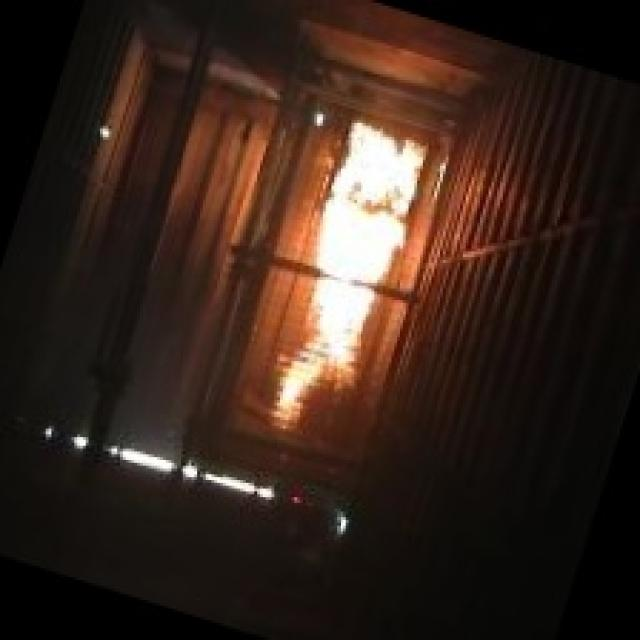fire: (244, 111, 456, 460)
